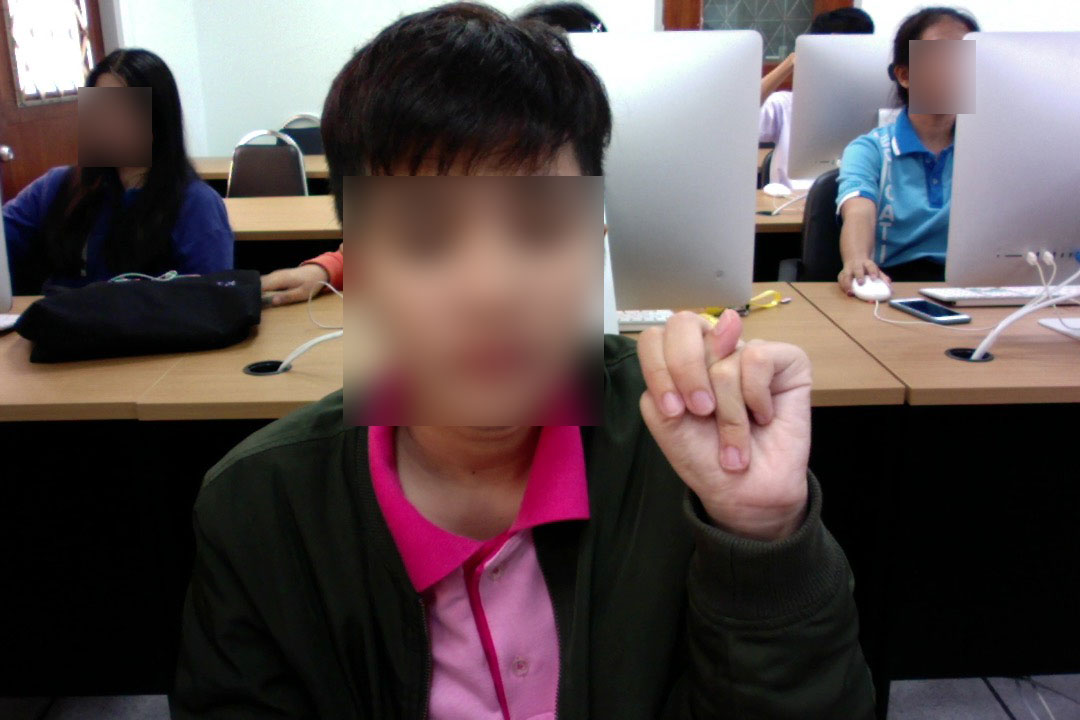nor: (625, 302, 827, 563)
